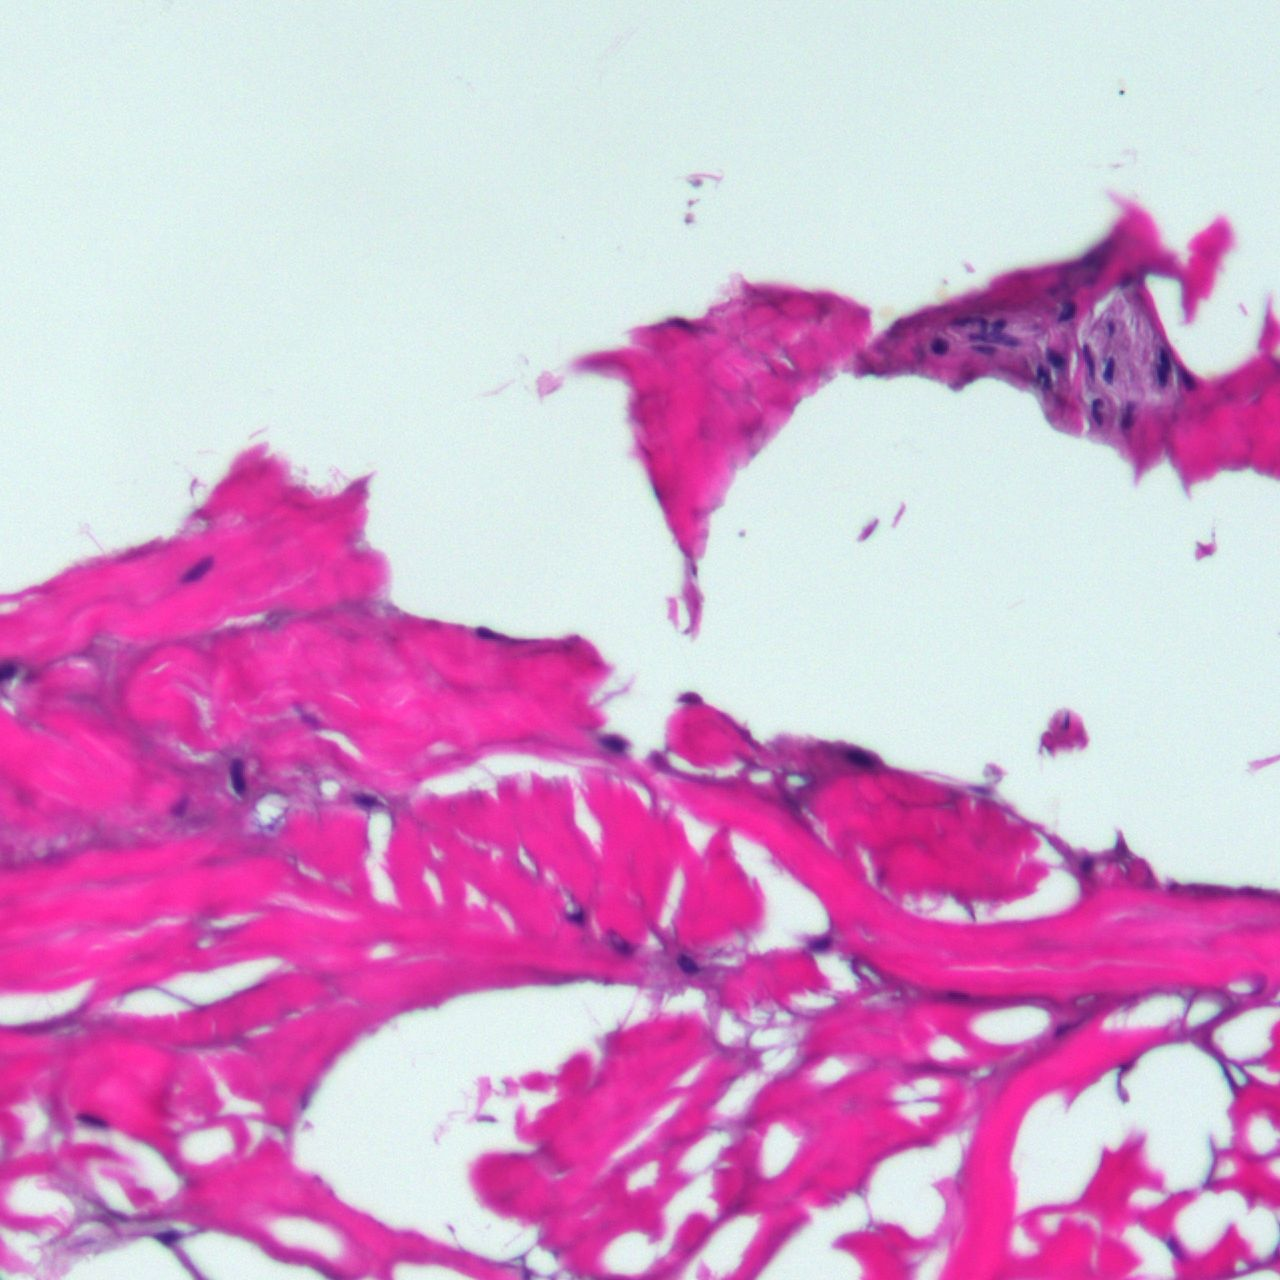nucleus-HE: (179, 553, 217, 587), (76, 1111, 109, 1130), (675, 953, 700, 978), (230, 758, 244, 792), (602, 733, 625, 754), (1156, 350, 1169, 387), (1044, 349, 1065, 369), (1091, 397, 1103, 424), (1057, 302, 1075, 320), (1103, 356, 1114, 383), (973, 343, 995, 354), (932, 339, 945, 354)
